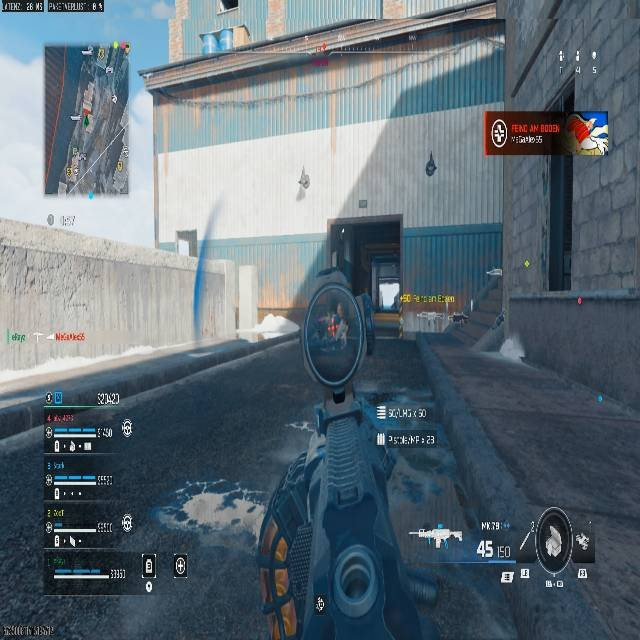player: (449, 312, 470, 327)
